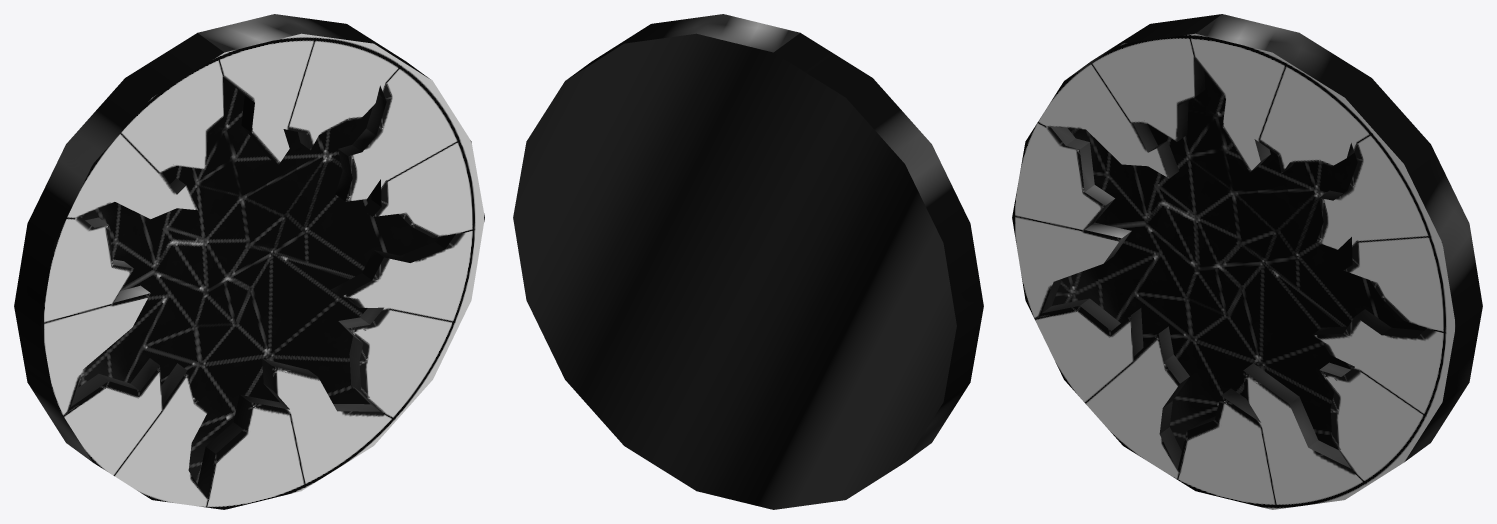
The model's file is mosiac base.FBX.
3 renders of one model, left to right at view 1: azimuth 30°, elevation 25°; view 2: azimuth 150°, elevation 25°; view 3: azimuth 330°, elevation 25°, orthographic.
Parts seen in each view (by area): view 1: Cylinder006; view 2: Cylinder006; view 3: Cylinder006.
Part boxes in pixels (box(x1,y1,x2,y2)): Cylinder006: box(14, 14, 484, 509); Cylinder006: box(513, 14, 983, 509); Cylinder006: box(1012, 14, 1482, 509).
Bounding box in the file's own units: 70.1 × 69.04 × 7.38.
